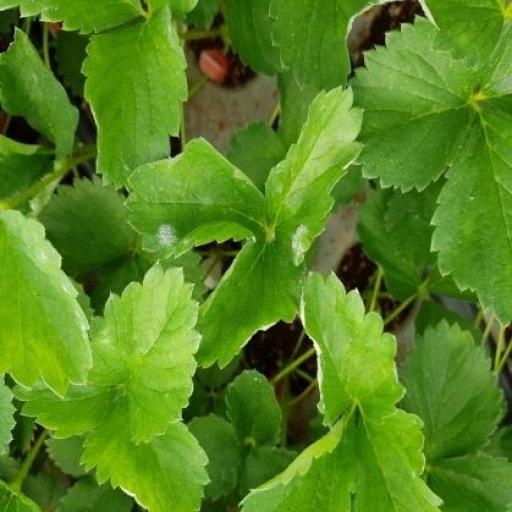Powdery Mildew Leaf: (85, 61, 203, 252), (123, 250, 271, 377), (0, 112, 94, 304), (193, 141, 313, 285), (299, 85, 407, 243), (78, 0, 211, 123), (264, 273, 366, 427), (268, 420, 389, 511)
